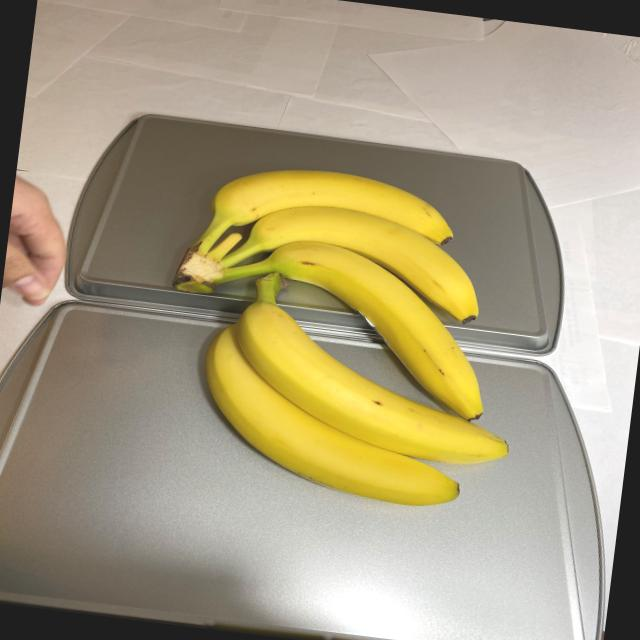banana: (148, 152, 546, 516)
